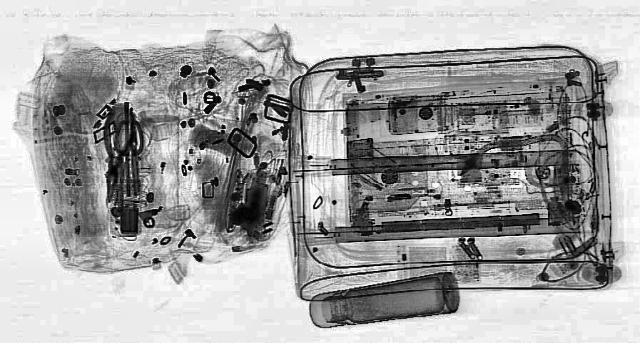Pliers: (91, 112, 137, 203)
